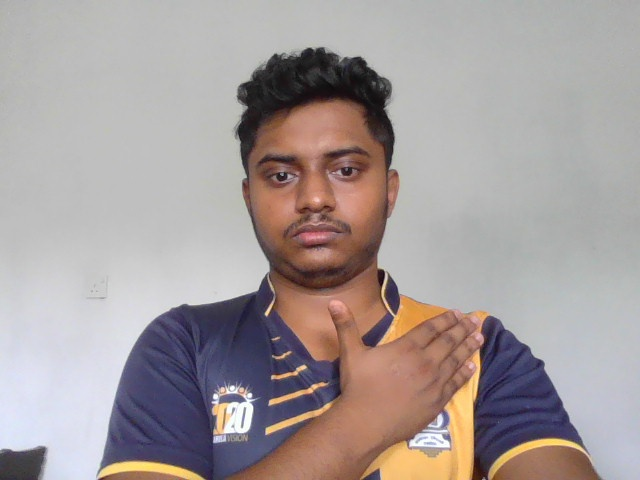Please: (323, 296, 488, 442)
